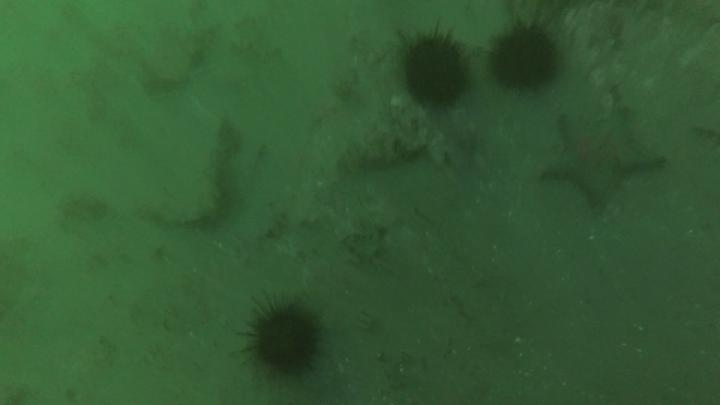echinus: (240, 295, 327, 380), (396, 29, 473, 112), (486, 22, 563, 94)
starfish: (537, 105, 667, 211)
